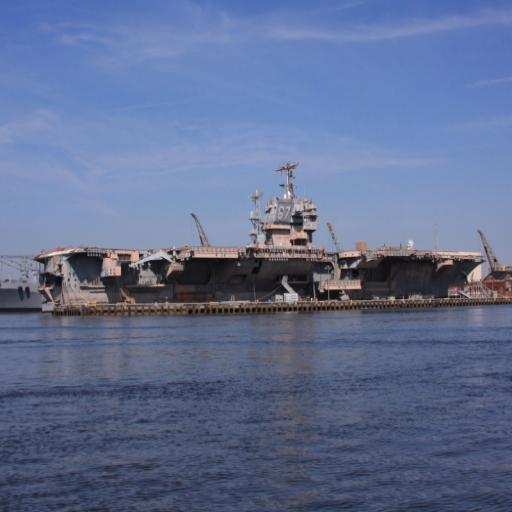Portanaves: (38, 154, 488, 320)
